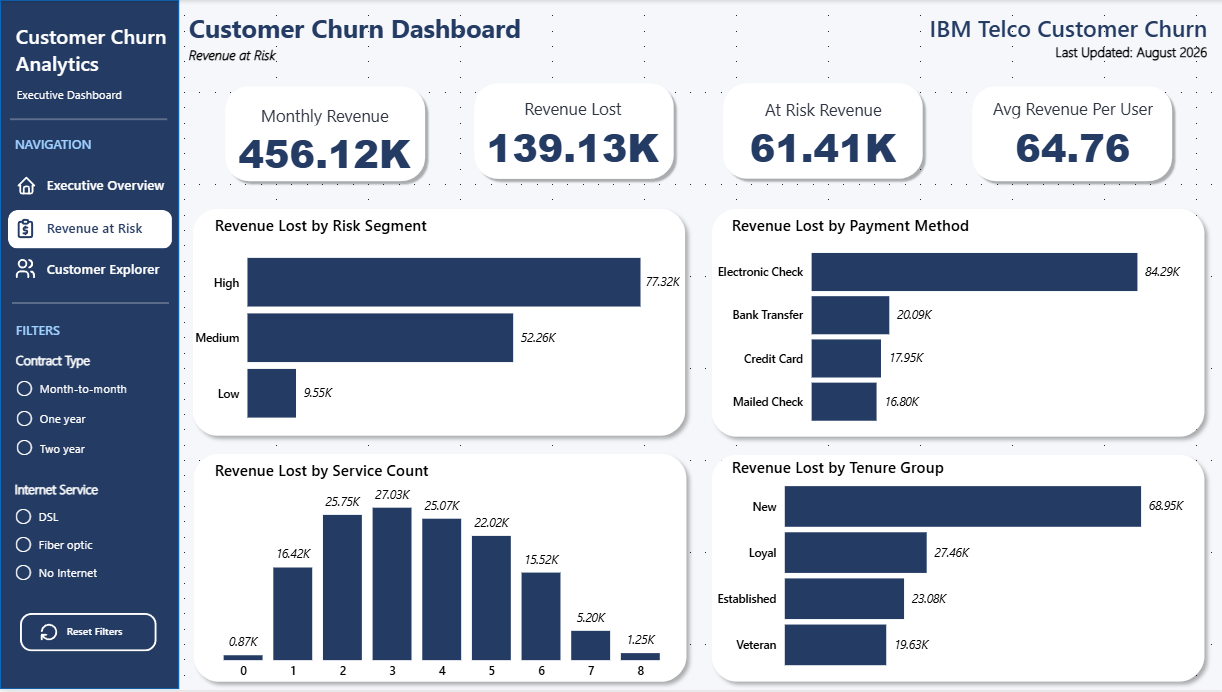

What the dashboard file says about the page in this screenshot:
{"tool":"powerbi","page":{"name":"Revenue at Risk","canvas":[1280,720],"ordinal":1},"visuals":[{"type":"shape","box":[191.7,208.3,532,255],"z":0},{"type":"shape","box":[0,0,186.9,719.2],"z":1000},{"type":"shape","box":[192.9,464.3,532.1,256],"z":2000},{"type":"shape","box":[733.3,465.5,532.1,254.8],"z":3000},{"type":"shape","box":[488.8,80.5,221,112.7],"z":4000},{"type":"shape","box":[228.6,83.3,221.4,111.9],"z":5000},{"type":"cardVisual","fields":{"Data":["Measures Table.RevenueLost"]},"box":[475,85.7,246.4,109.5],"z":6000},{"type":"shape","box":[748.6,80,221,112.5],"z":7000},{"type":"shape","box":[1008.3,83.3,221.4,111.9],"z":8000},{"type":"cardVisual","fields":{"Data":["Measures Table.AtRiskRevenue"]},"box":[731,85.7,257.1,111.9],"z":9000},{"type":"cardVisual","fields":{"Data":["Measures Table.MonthlyRevenue"]},"box":[213.1,91.7,252.4,111.9],"z":10000},{"type":"cardVisual","fields":{"Data":["Measures Table.ARPU"]},"box":[996.4,85.7,246.4,110.7],"z":11000},{"type":"clusteredBarChart","title":"Churn Rate by Risk Segment","fields":{"Category":["telco_customers_clean.Risk_Segment"],"Y":["Measures Table.RevenueLost"]},"box":[197.6,238.1,511.9,227.4],"z":12000},{"type":"barChart","title":"Churn Rate by Risk Segment","fields":{"Category":["telco_customers_clean.Tenure_Group"],"Y":["Measures Table.RevenueLost"]},"box":[741.7,479.8,508.3,239.3],"z":13000},{"type":"clusteredColumnChart","title":"Churn Rate by Risk Segment","fields":{"Category":["telco_customers_clean.Service_Count_Label"],"Y":["Measures Table.RevenueLost"]},"box":[207.1,491.7,502.4,227.4],"z":14000},{"type":"textbox","box":[219,219,271.4,42.9],"z":15000},{"type":"textbox","box":[758.3,471.4,313.1,39.3],"z":16000},{"type":"textbox","box":[219,475,411.9,32.1],"z":17000},{"type":"textbox","box":[192,0,380.9,80.3],"z":18000},{"type":"textbox","box":[948.8,7.5,316.2,63.8],"z":19000},{"type":"textbox","box":[8,15,172,76],"z":20000},{"type":"shape","box":[8.3,219,171.4,40.5],"z":21000},{"type":"shape","box":[10,118,164,13],"z":22000},{"type":"listSlicer","title":"Contract Type","fields":{"Values":["telco_customers_clean.Contract"]},"box":[11.2,367.5,160,120],"z":23000},{"type":"shape","box":[733.3,208.3,532.1,256],"z":24000},{"type":"listSlicer","title":"Internet Service","fields":{"Values":["telco_customers_clean.InternetService"]},"box":[10.9,501.8,160,114.5],"z":25000},{"type":"actionButton","box":[15.7,432.1,33.6,32.1],"z":26000},{"type":"textbox","box":[10,137,164,35],"z":27000},{"type":"textbox","box":[43.5,223.5,140,31.1],"z":28000},{"type":"textbox","box":[43.3,178.5,136.7,32.2],"z":29000},{"type":"textbox","box":[9,81,164,32],"z":30000},{"type":"textbox","box":[44,266,140,31],"z":31000},{"type":"image","box":[14,183,28,22],"z":32000},{"type":"image","box":[13,226,28,24],"z":33000},{"type":"image","box":[13,268,28,24],"z":34000},{"type":"shape","box":[12.5,310,163.8,12.5],"z":35000},{"type":"textbox","box":[11.2,331.2,162.5,35],"z":36000},{"type":"actionButton","box":[11.9,173.8,165.5,39.3],"z":37000},{"type":"image","box":[40,647.5,22.5,22.5],"z":38000},{"type":"textbox","box":[64.3,643.6,80,30.8],"z":39000},{"type":"actionButton","box":[21.2,640,142.5,40],"z":40000},{"type":"actionButton","box":[10.7,261.9,164.3,40.5],"z":41000},{"type":"clusteredBarChart","title":"Churn Rate by Risk Segment","fields":{"Category":["telco_customers_clean.PaymentMethod"],"Y":["Measures Table.RevenueLost"]},"box":[741.7,238.1,508.3,225],"z":42000},{"type":"textbox","box":[758.3,219,271.4,42.9],"z":43000}]}

Visuals, with their boxes in screenshot pixels (x1, y1, x2, y2), scaled from the page's 1280x720 canvas onto the 1222x692 screenshot:
shape: l=183, t=200, r=691, b=445
shape: l=0, t=0, r=178, b=691
shape: l=184, t=446, r=692, b=691
shape: l=700, t=447, r=1208, b=691
shape: l=467, t=77, r=678, b=186
shape: l=218, t=80, r=430, b=188
cardVisual - Measures Table.RevenueLost: l=453, t=82, r=689, b=188
shape: l=715, t=77, r=926, b=185
shape: l=963, t=80, r=1174, b=188
cardVisual - Measures Table.AtRiskRevenue: l=698, t=82, r=943, b=190
cardVisual - Measures Table.MonthlyRevenue: l=203, t=88, r=444, b=196
cardVisual - Measures Table.ARPU: l=951, t=82, r=1186, b=189
"Churn Rate by Risk Segment" clusteredBarChart: l=189, t=229, r=677, b=447
"Churn Rate by Risk Segment" barChart: l=708, t=461, r=1193, b=691
"Churn Rate by Risk Segment" clusteredColumnChart: l=198, t=473, r=677, b=691
textbox: l=209, t=210, r=468, b=252
textbox: l=724, t=453, r=1023, b=491
textbox: l=209, t=457, r=602, b=487
textbox: l=183, t=0, r=547, b=77
textbox: l=906, t=7, r=1208, b=69
textbox: l=8, t=14, r=172, b=87
shape: l=8, t=210, r=172, b=249
shape: l=10, t=113, r=166, b=126
"Contract Type" listSlicer: l=11, t=353, r=163, b=469
shape: l=700, t=200, r=1208, b=446
"Internet Service" listSlicer: l=10, t=482, r=163, b=592
actionButton: l=15, t=415, r=47, b=446
textbox: l=10, t=132, r=166, b=165
textbox: l=42, t=215, r=175, b=245
textbox: l=41, t=172, r=172, b=203
textbox: l=9, t=78, r=165, b=109
textbox: l=42, t=256, r=176, b=285
image: l=13, t=176, r=40, b=197
image: l=12, t=217, r=39, b=240
image: l=12, t=258, r=39, b=281
shape: l=12, t=298, r=168, b=310
textbox: l=11, t=318, r=166, b=352
actionButton: l=11, t=167, r=169, b=205
image: l=38, t=622, r=60, b=644
textbox: l=61, t=619, r=138, b=648
actionButton: l=20, t=615, r=156, b=654
actionButton: l=10, t=252, r=167, b=291
"Churn Rate by Risk Segment" clusteredBarChart: l=708, t=229, r=1193, b=445
textbox: l=724, t=210, r=983, b=252
